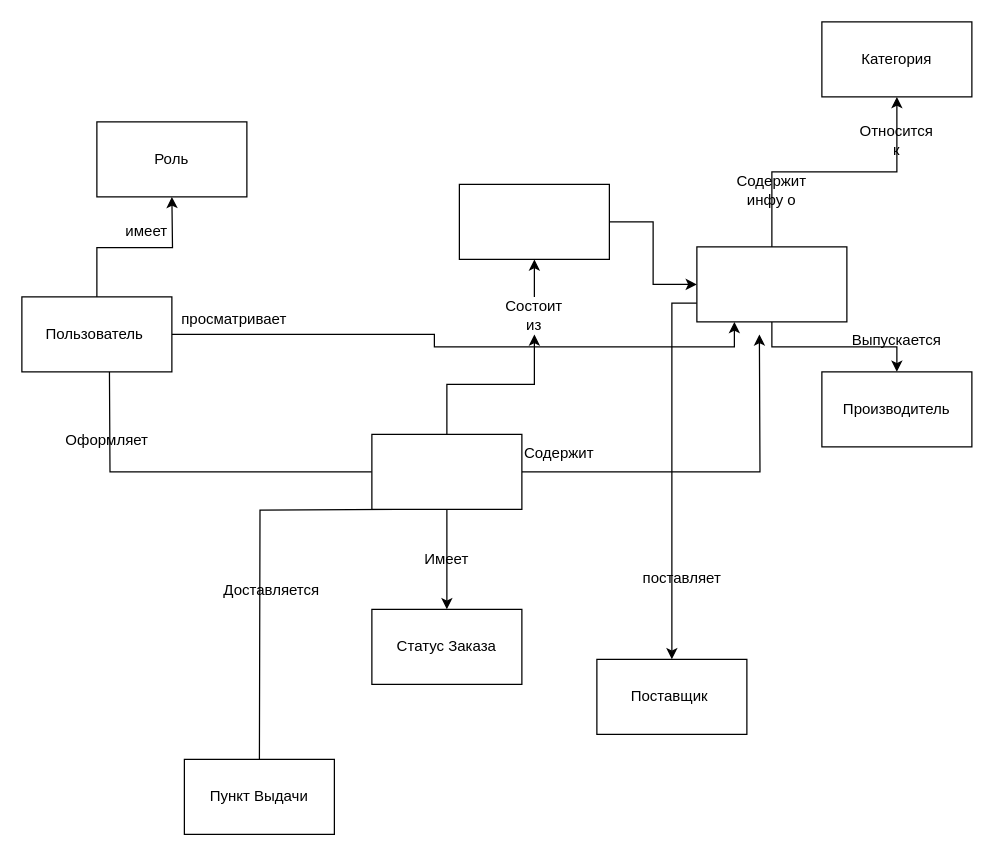
Some shapes in this 994 by 856 pixel diagram are drawn without their labels. Each missing label, with the centre of its shape:
"Заказ" goes at [446,471].
"Строка заказа" goes at [533,221].
"товар" goes at [771,284].
